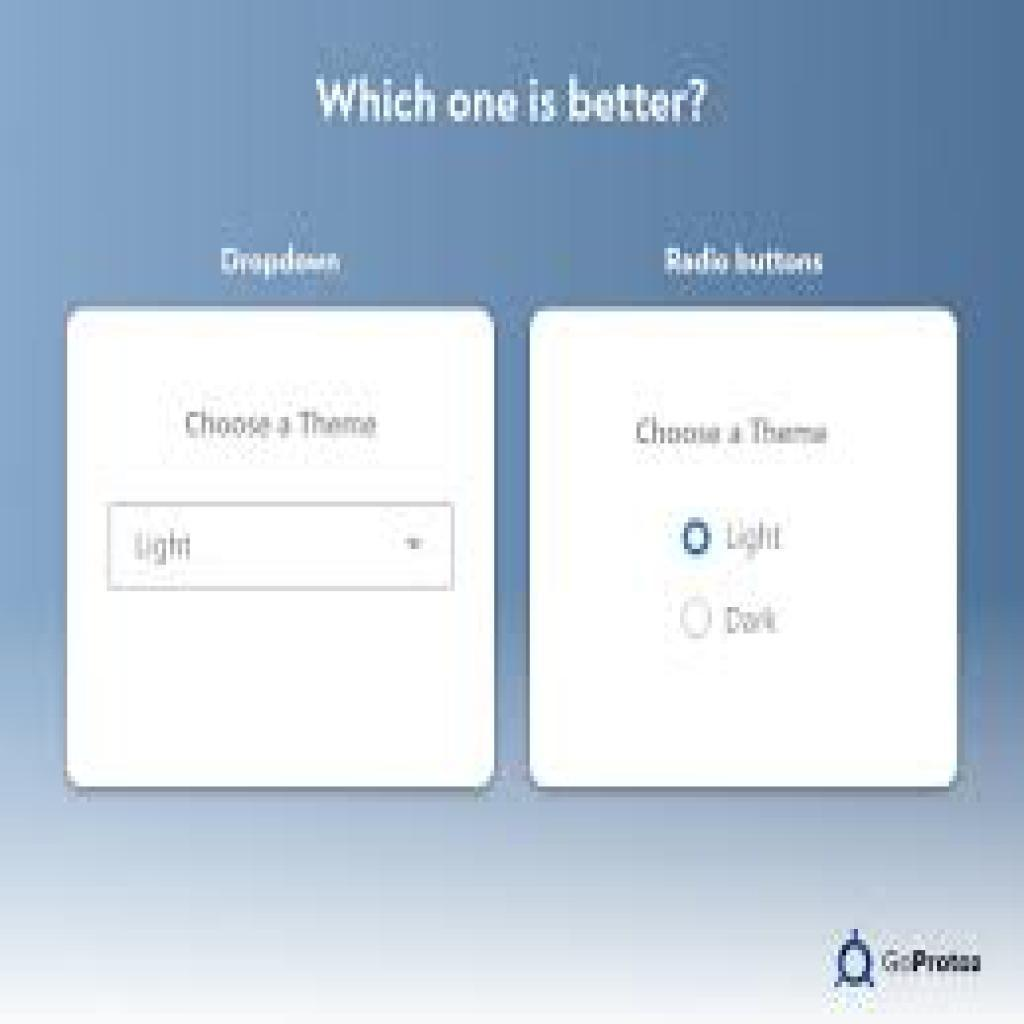dropdown: (108, 501, 457, 589)
radio: (680, 510, 718, 559), (681, 593, 715, 647)
